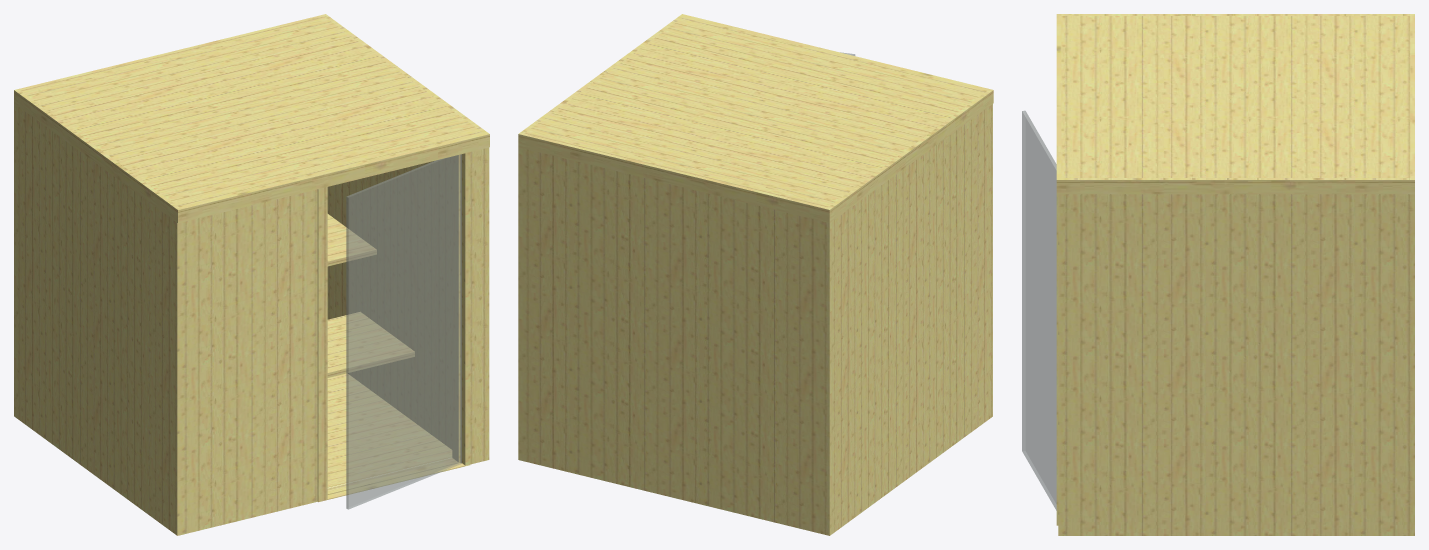
File: sh-contrib-sauna-120x120.glb
3 renders of one model, left to right at view 1: azimuth 30°, elevation 25°; view 2: azimuth 150°, elevation 25°; view 3: azimuth 270°, elevation 25°, orthographic. The views are drawn at different scales.
Parts seen in each view (by area): view 1: 24_24, 14_14, 22_22; view 2: 24_24, 14_14; view 3: 24_24, 14_14, 22_22.
Boxes of the visible parts, box(x1,y1,x2,y2) form: 24_24: box(14, 103, 489, 535); 14_14: box(14, 14, 489, 499); 22_22: box(346, 154, 461, 509); 24_24: box(518, 104, 992, 535); 14_14: box(518, 14, 993, 222); 24_24: box(1056, 194, 1414, 535); 14_14: box(1056, 14, 1414, 194); 22_22: box(1022, 110, 1056, 510).
Bounding box in the file's own units: 1 × 1 × 1.
5 materials, 2 textured.
